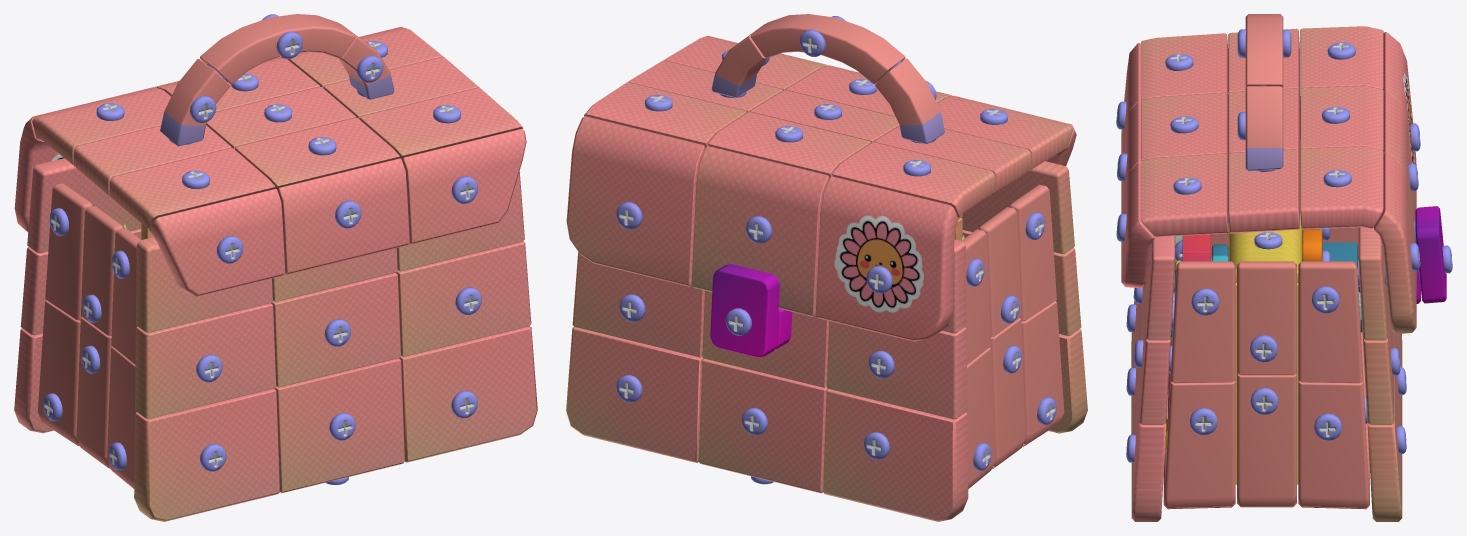
Rendered from lvl_49.fbx.
3 views of the same model, side by side, from view 1: azimuth 30°, elevation 25°; view 2: azimuth 150°, elevation 25°; view 3: azimuth 270°, elevation 25° (orthographic).
Parts seen in each view (by area): view 1: BagBook_20, BagBook_18, BagBook_26, BagBook_32, BagBook_74, BagBook_51, BagBook_76, BagBook_99, BagBook_41, BagBook_52, BagBook_46, BagBook_48 (+27 smaller); view 2: BagBook_98, BagBook_40, BagBook_42, BagBook_17, BagBook_19, BagBook_25, BagBook_78, BagBook_31, BagBook_45, BagBook_49, BagBook_47, BagBook_121 (+20 smaller); view 3: BagBook_34, BagBook_21, BagBook_113, BagBook_24, BagBook_09, BagBook_48, BagBook_47, BagBook_107, BagBook_50, BagBook_46, BagBook_52, BagBook_40 (+38 smaller).
Part boxes in pixels (x1=…): BagBook_20: x1=134, y1=388, x2=280, y2=521; BagBook_18: x1=399, y1=326, x2=537, y2=462; BagBook_26: x1=274, y1=358, x2=404, y2=493; BagBook_32: x1=135, y1=303, x2=276, y2=418; BagBook_74: x1=396, y1=241, x2=531, y2=356; BagBook_51: x1=277, y1=158, x2=409, y2=274; BagBook_76: x1=271, y1=273, x2=400, y2=387; BagBook_99: x1=149, y1=188, x2=285, y2=296; BagBook_41: x1=402, y1=128, x2=526, y2=244; BagBook_52: x1=109, y1=148, x2=275, y2=228; BagBook_46: x1=235, y1=117, x2=399, y2=190; BagBook_48: x1=359, y1=87, x2=522, y2=159; BagBook_98: x1=815, y1=176, x2=958, y2=341; BagBook_40: x1=566, y1=116, x2=705, y2=286; BagBook_42: x1=691, y1=146, x2=829, y2=317; BagBook_17: x1=823, y1=389, x2=968, y2=521; BagBook_19: x1=566, y1=327, x2=704, y2=462; BagBook_25: x1=698, y1=359, x2=828, y2=493; BagBook_78: x1=826, y1=321, x2=967, y2=419; BagBook_31: x1=572, y1=252, x2=704, y2=357; BagBook_45: x1=832, y1=142, x2=995, y2=217; BagBook_49: x1=708, y1=112, x2=870, y2=178; BagBook_47: x1=584, y1=82, x2=746, y2=147; BagBook_121: x1=751, y1=14, x2=905, y2=83; BagBook_34: x1=1164, y1=380, x2=1235, y2=507; BagBook_21: x1=1298, y1=380, x2=1369, y2=507; BagBook_113: x1=1237, y1=373, x2=1296, y2=506; BagBook_24: x1=1170, y1=261, x2=1235, y2=383; BagBook_09: x1=1298, y1=261, x2=1363, y2=383; BagBook_48: x1=1141, y1=153, x2=1228, y2=237; BagBook_47: x1=1300, y1=146, x2=1383, y2=229; BagBook_107: x1=1237, y1=261, x2=1296, y2=375; BagBook_50: x1=1228, y1=149, x2=1299, y2=233; BagBook_46: x1=1141, y1=93, x2=1228, y2=170; BagBook_52: x1=1141, y1=33, x2=1228, y2=109; BagBook_40: x1=1374, y1=152, x2=1416, y2=334.
Bounding box in the file's own units: 5.32 × 5.36 × 3.95.
